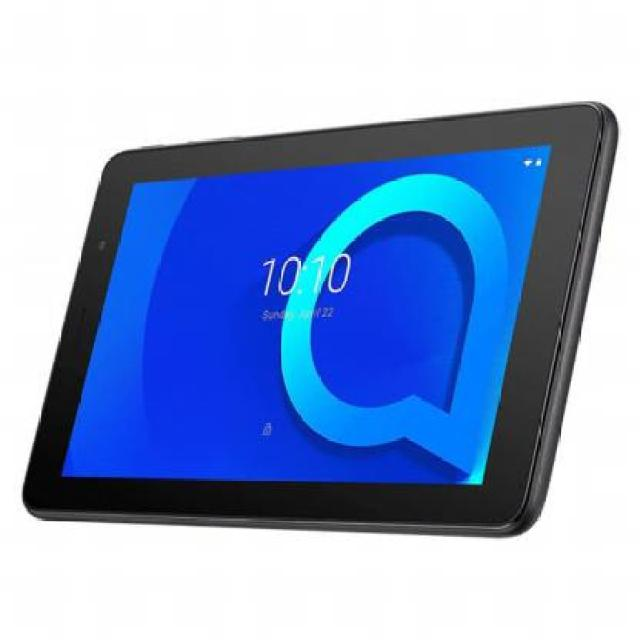tablet: (59, 96, 608, 576)
